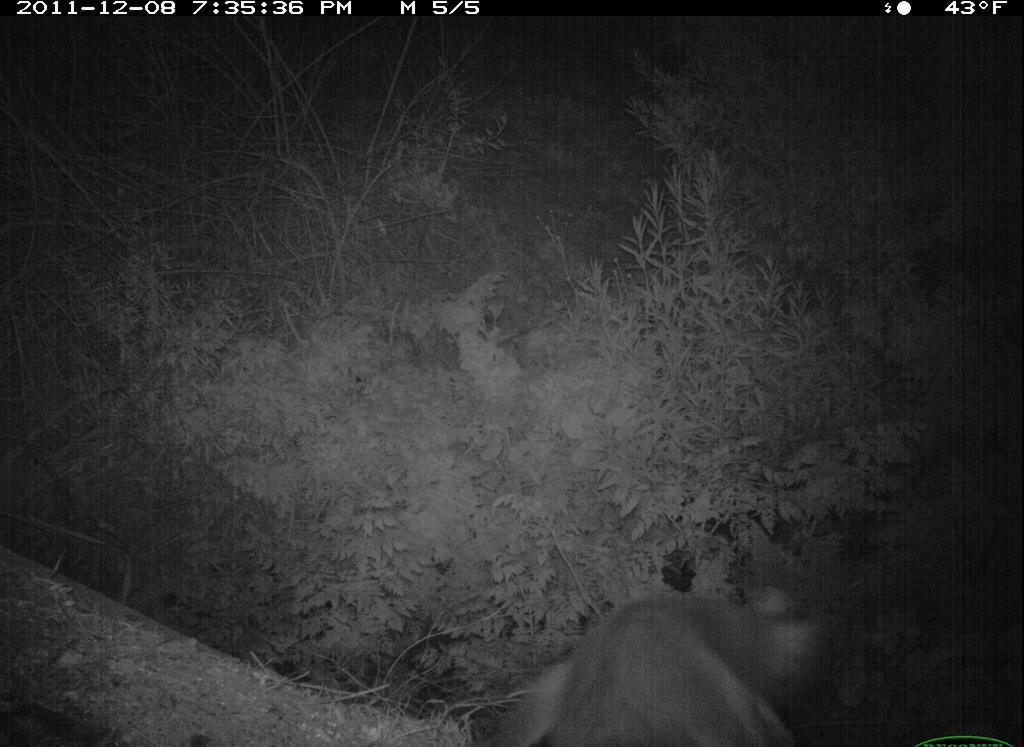cat: (481, 574, 833, 745)
